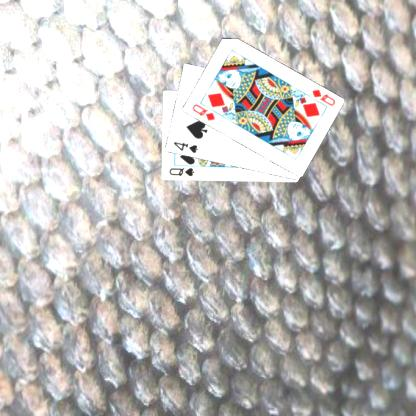4S: (171, 139, 199, 154)
QD: (189, 101, 217, 122), (308, 87, 336, 107)
QS: (167, 165, 195, 178)
